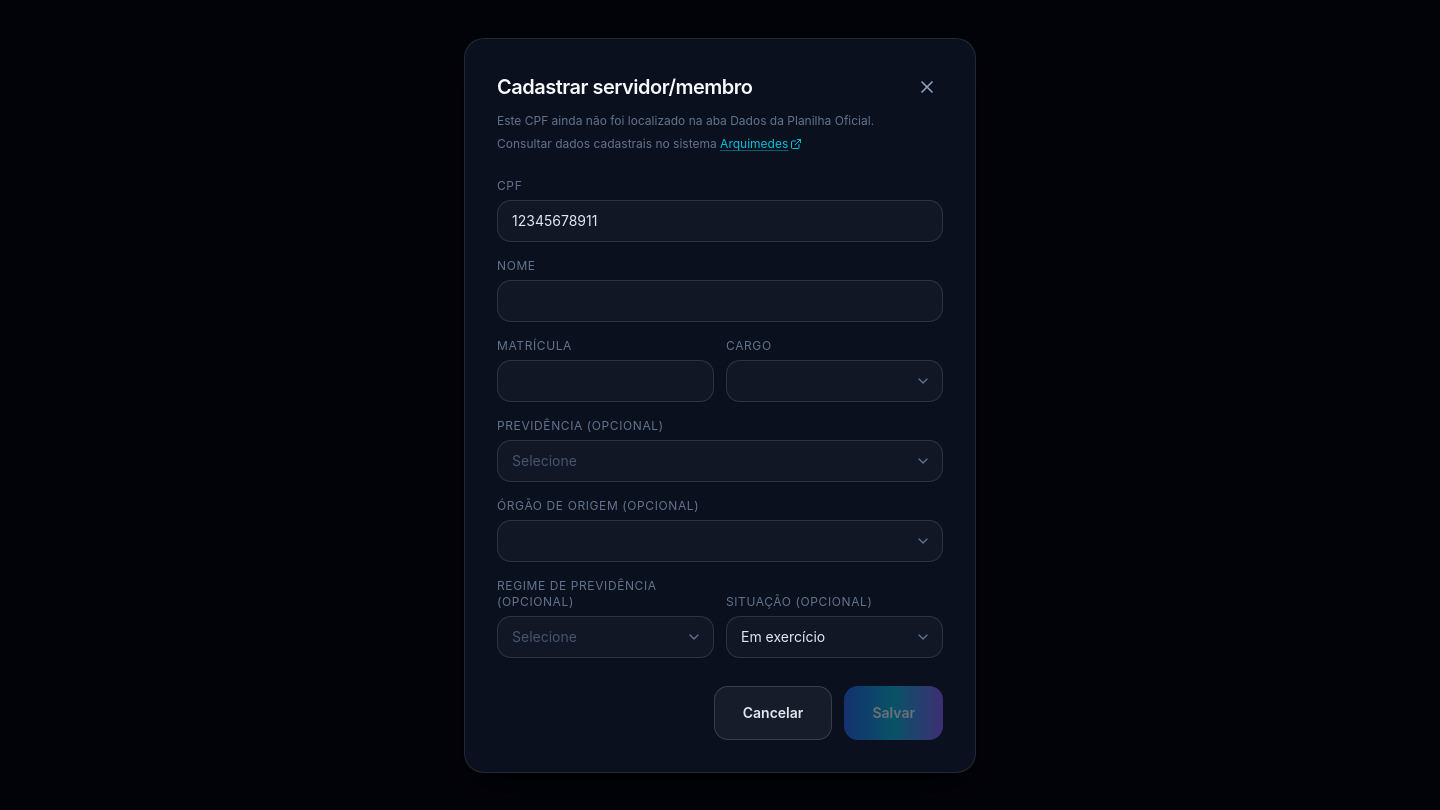
ModalCadastrarServidor › CPF vem pré-preenchido, EDITÁVEL (não mais bloqueado), e desabilita Salvar até os campos obrigatórios serem preenchidos
Expected: the field labelled "CPF" holds "12345678911", 497,200 -> 943,242
Expected: the field labelled "CPF" is enabled, 497,200 -> 943,242
Type "Novo Servidor de Teste" into the field labelled "Nome" at (720, 300), box 497,280 -> 943,322
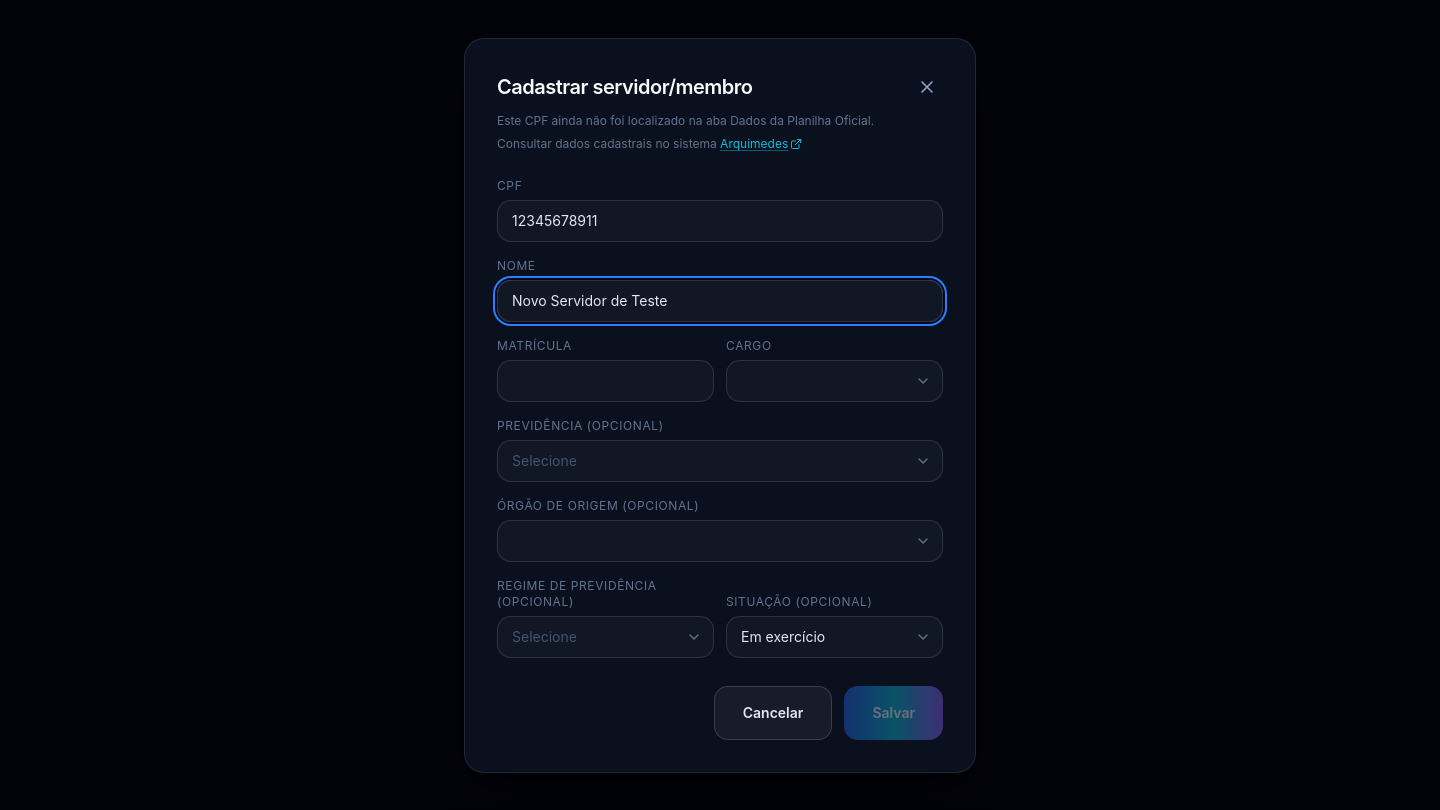
Type "9999" into the field labelled "Matrícula" at (606, 380), box 497,360 -> 714,402
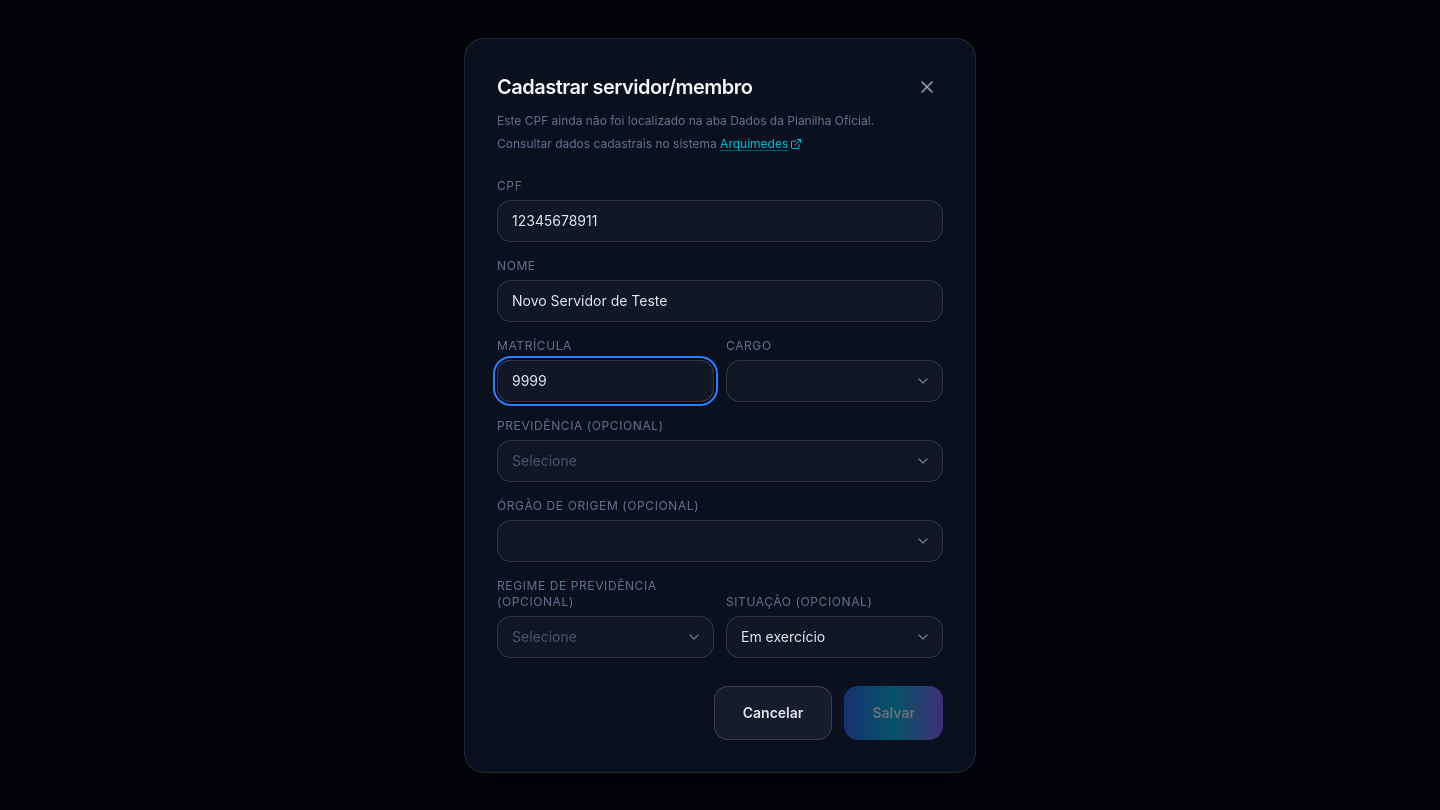
Type "Analista Judiciário" into the dropdown labelled "Cargo" at (834, 380), box 726,360 -> 943,402
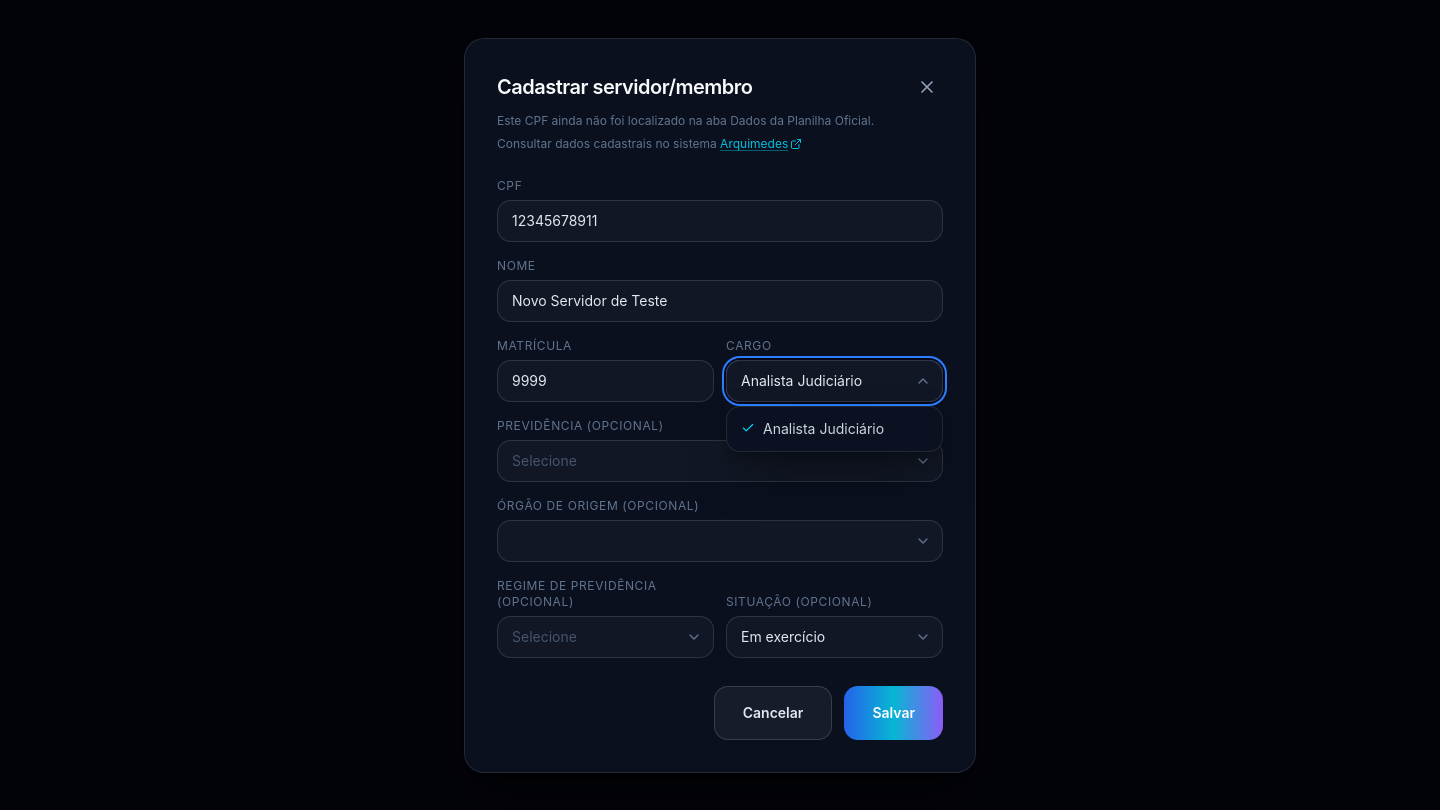
Expected: the button "Salvar" is enabled, 844,686 -> 943,740
